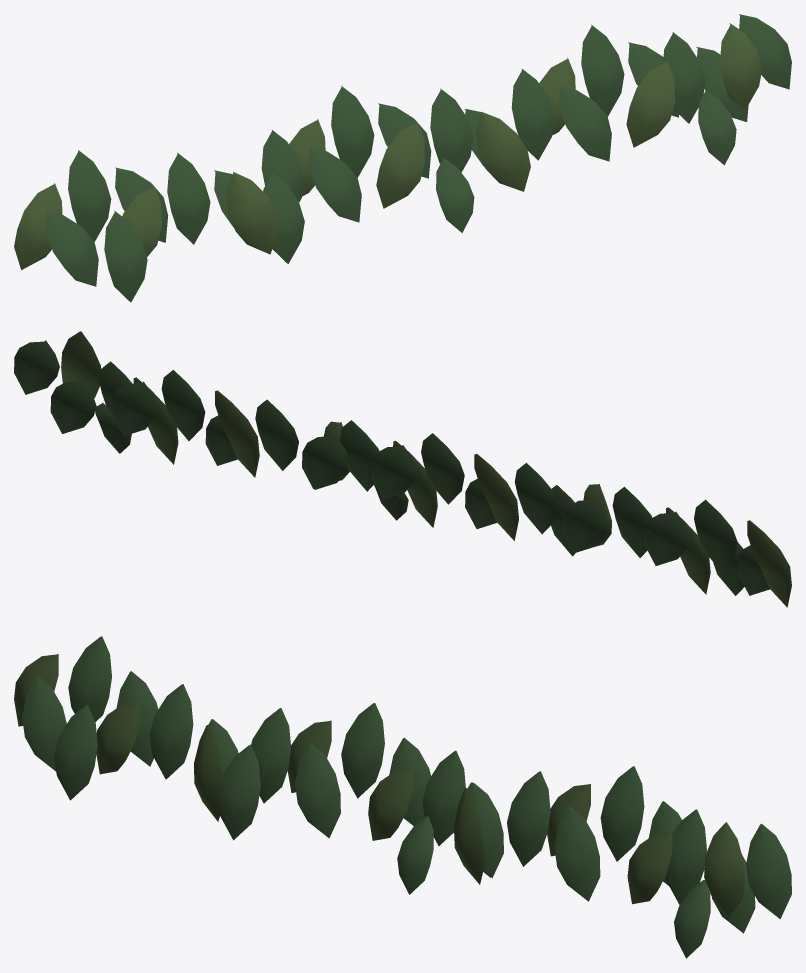
The model's file is enredadera_3.fbx.
3 views of the same model, one above another, from view 1: azimuth 30°, elevation 25°; view 2: azimuth 150°, elevation 25°; view 3: azimuth 330°, elevation 25° (orthographic). The views are drawn at different scales.
Visible parts, largest first — view 1: Hoja80; view 2: Hoja80; view 3: Hoja80.
Part boxes in pixels (box(x1,y1,x2,y2)): Hoja80: box(14, 14, 791, 302); Hoja80: box(14, 331, 791, 607); Hoja80: box(14, 636, 791, 958).
Bounding box in the file's own units: 8.25 × 1.39 × 0.8268.
